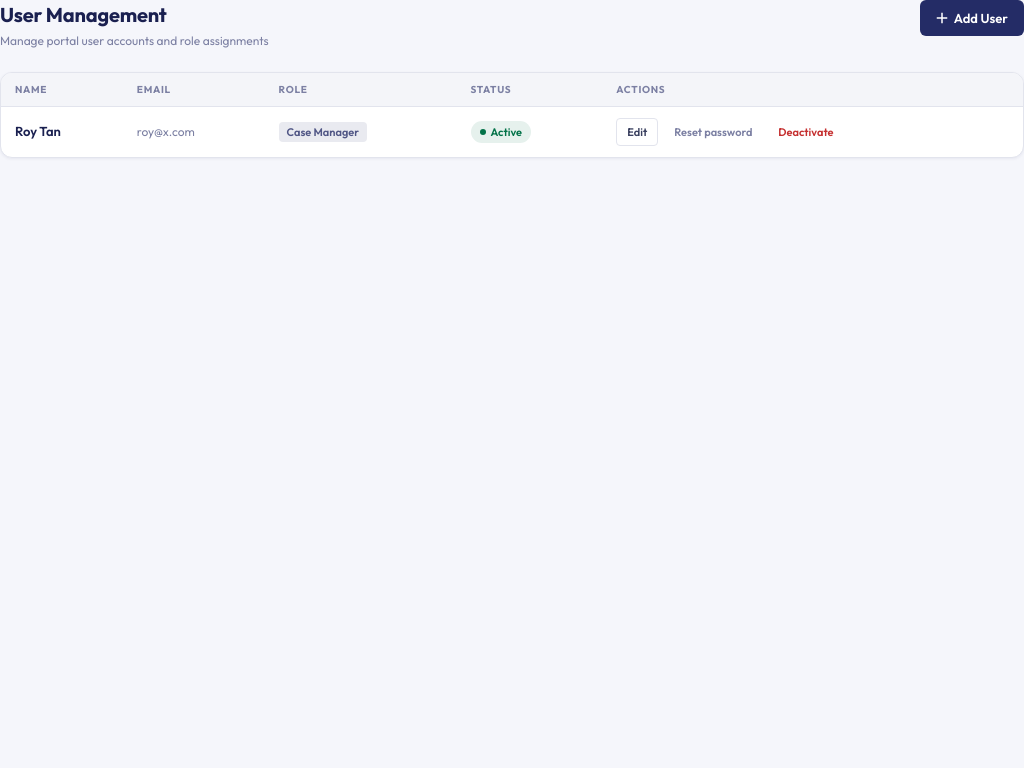
Test case: UserManagementPage — resetting a password › names the account by EMAIL, not only by display name
Click the button "Reset password": x=713, y=132 [664, 118, 762, 146]
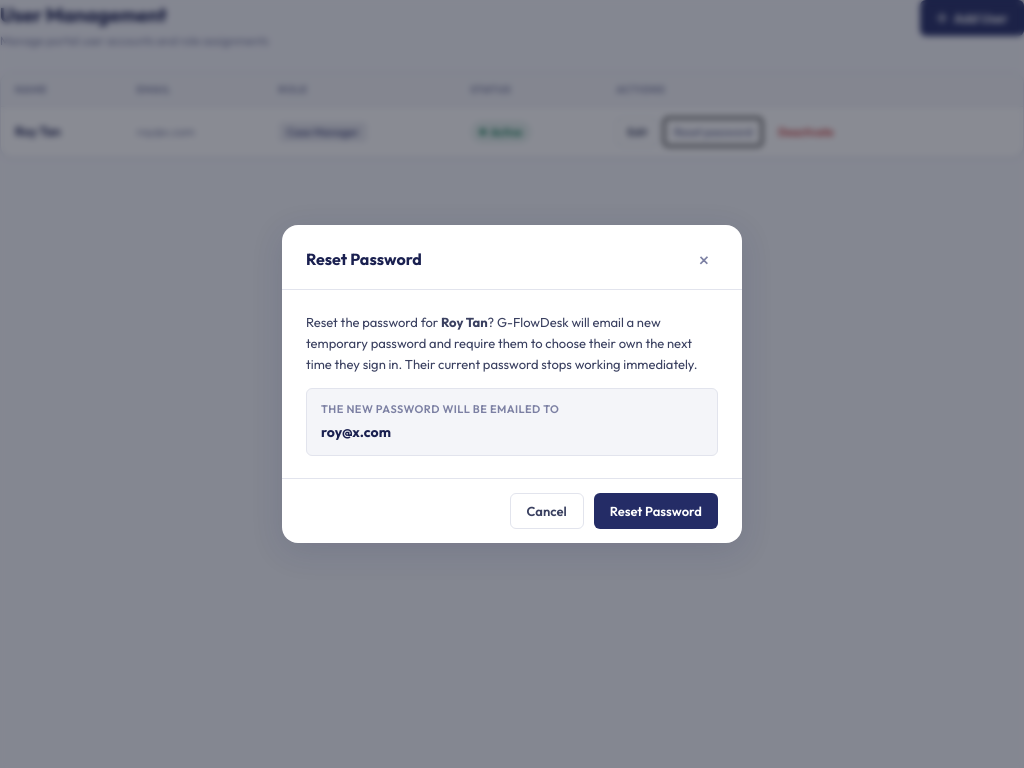
Expected: the text "The new password will be emailed to" is shown, [321, 402, 559, 416]
Expected: the text "roy@x.com" is shown, [321, 423, 391, 441]
